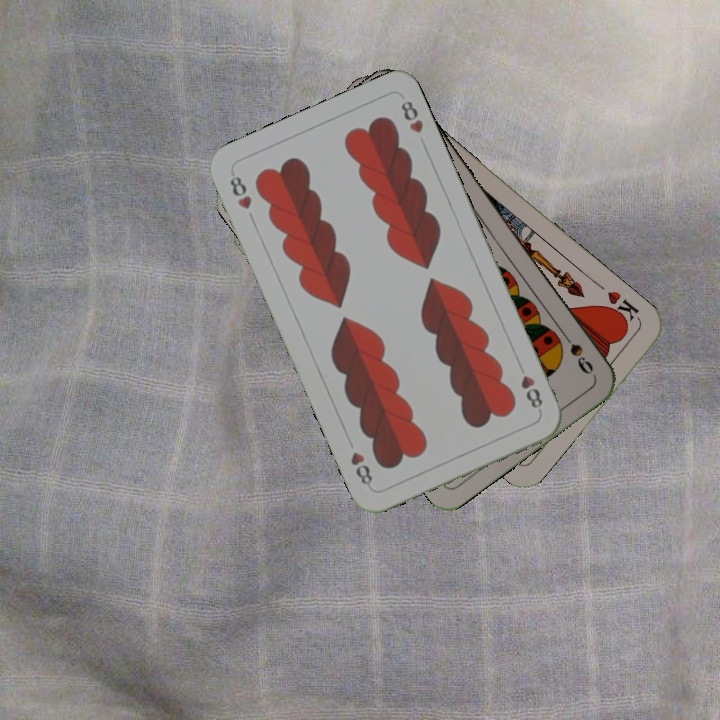H8: (225, 168, 255, 212), (516, 371, 546, 411)
HK: (600, 286, 642, 328)
S9: (556, 326, 596, 377)
